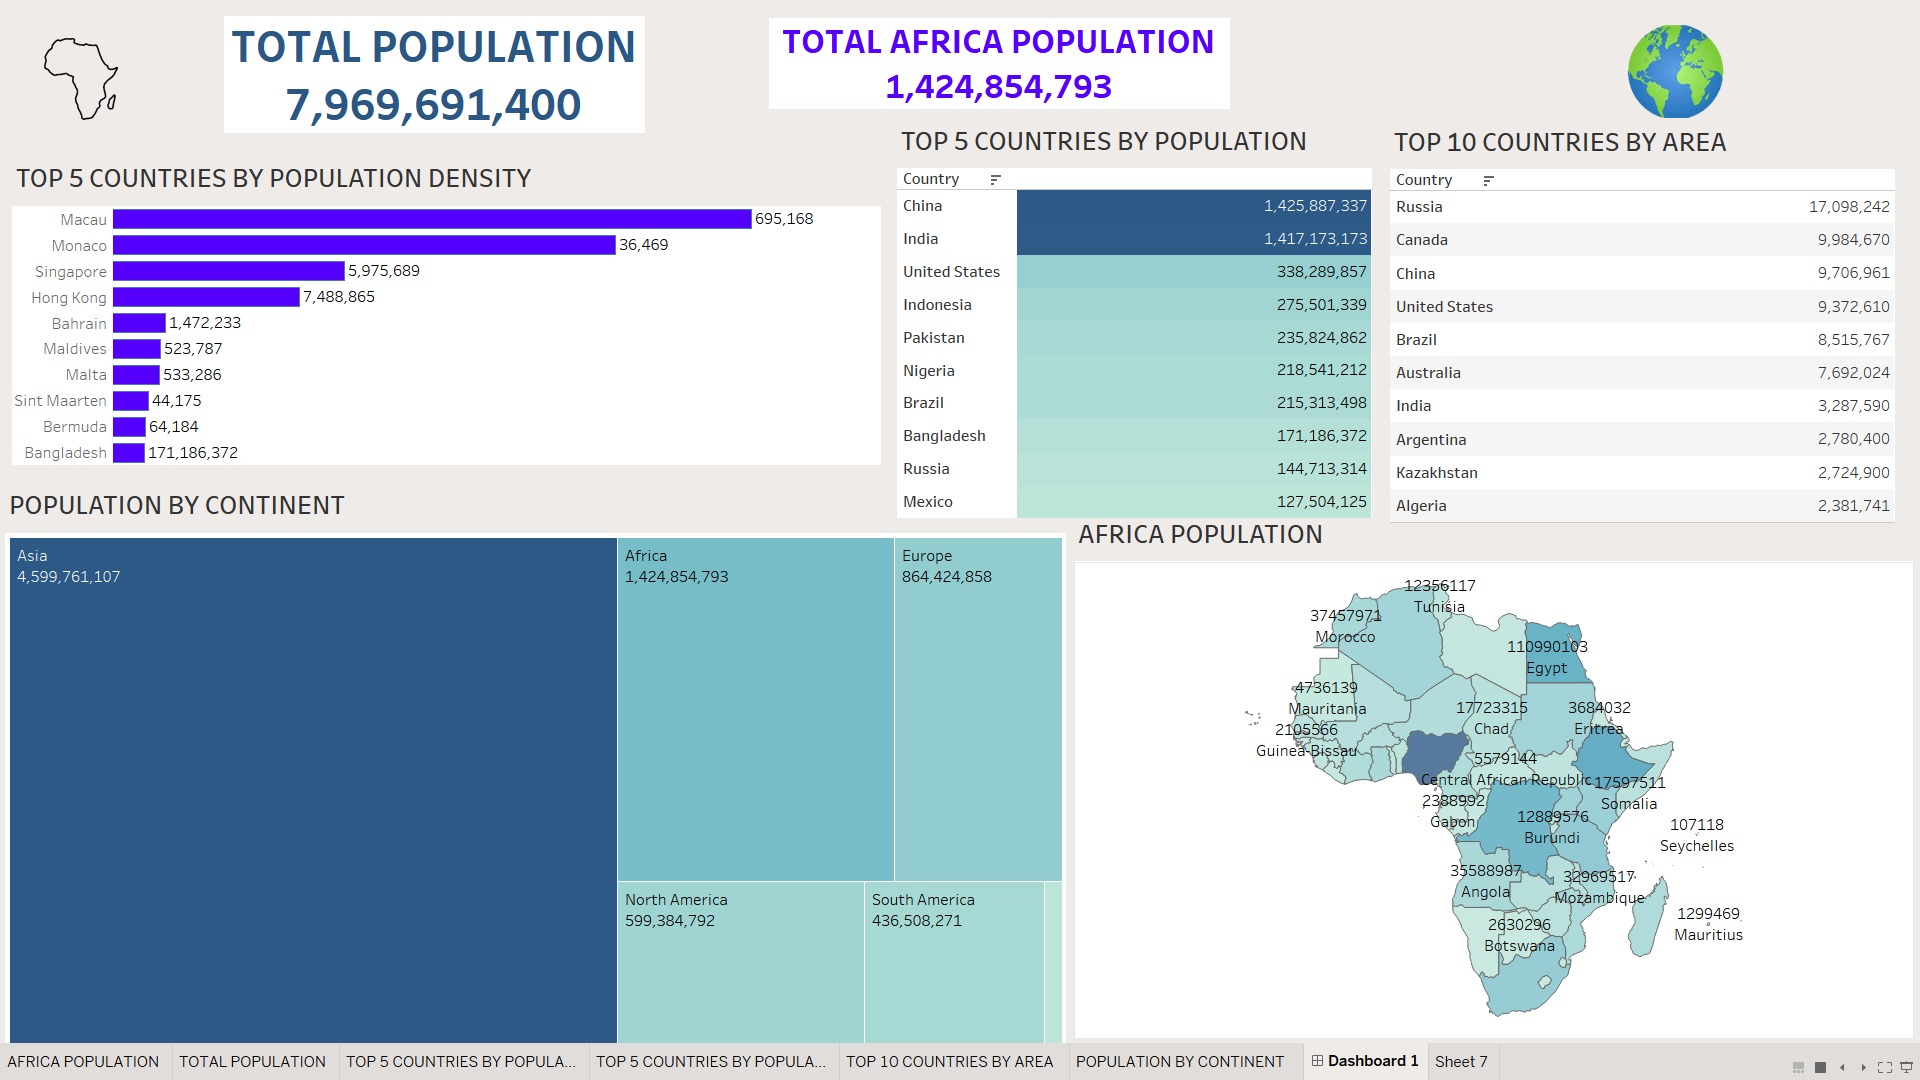

Layout of this report page (visuals, bound fields, positions):
{"tool":"tableau","page":{"name":"Dashboard 1","canvas":[1000,1000],"units":"permille","ordinal":0},"visuals":[{"type":"worksheet","title":"TOTAL POPULATION","mark":"Text","box":[116.5,15.3,315.6,138.7]},{"type":"worksheet","title":"Sheet 7","mark":"Automatic","box":[400.7,17.6,254.1,141]},{"type":"image","param":"C:/Users/USER/Downloads/AFRICA-removebg-preview (1).png","box":[7.2,21.2,90.5,102.2]},{"type":"image","param":"C:/Users/USER/Downloads/GLOBE-removebg-preview.png","box":[840.7,23.5,89.3,89.3]},{"type":"worksheet","title":"TOP 5 COUNTRIES BY POPULATION","mark":"Square","rows":["Country"],"box":[467.1,114,247.4,383.1]},{"type":"worksheet","title":"TOP 10 COUNTRIES BY AREA","mark":"Automatic","rows":["Country"],"box":[724.2,115.2,263.1,386.6]},{"type":"worksheet","title":"TOP 5 COUNTRIES BY POPULATION DENSITY","mark":"Automatic","rows":["Country"],"cols":["Population Density"],"box":[6,149.2,452.6,296.1]},{"type":"worksheet","title":"POPULATION BY CONTINENT ","mark":"Automatic","box":[2.4,463,552.8,541.7]},{"type":"worksheet","title":"AFRICA POPULATION","mark":"Automatic","box":[559.4,491.2,437.5,505.3]}]}

Visuals, with their boxes on the dashboard's canvas, which has no fixed pixel size, in thousandths of its width and height (x1, y1, x2, y2). These are canvas units, not pixel positions in the 1920x1080 screenshot, which may show the page scaled, cropped or inside an application window:
"TOTAL POPULATION" worksheet (Text marks): region(116, 15, 432, 154)
"Sheet 7" worksheet: region(401, 18, 655, 159)
image: region(7, 21, 98, 123)
image: region(841, 24, 930, 113)
"TOP 5 COUNTRIES BY POPULATION" worksheet (Square marks): region(467, 114, 714, 497)
"TOP 10 COUNTRIES BY AREA" worksheet: region(724, 115, 987, 502)
"TOP 5 COUNTRIES BY POPULATION DENSITY" worksheet: region(6, 149, 459, 445)
"POPULATION BY CONTINENT " worksheet: region(2, 463, 555, 1005)
"AFRICA POPULATION" worksheet: region(559, 491, 997, 996)
